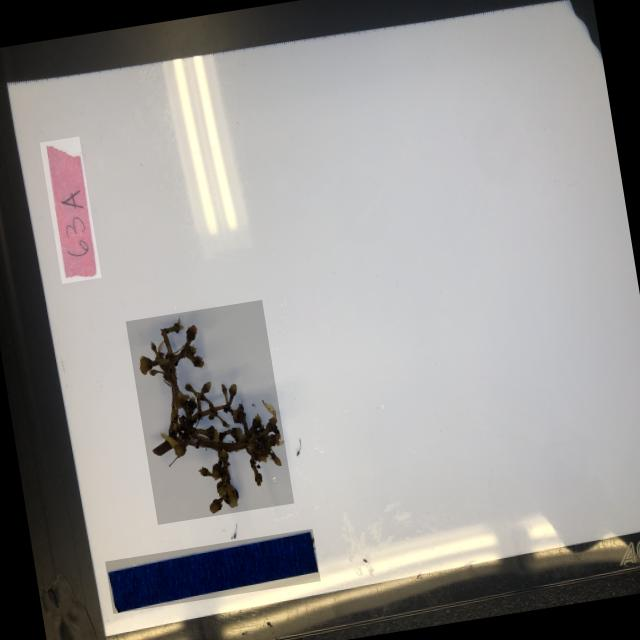index: (40, 136, 102, 282)
measure_label: (105, 528, 321, 613)
rachis_cluster: (126, 299, 295, 524)
